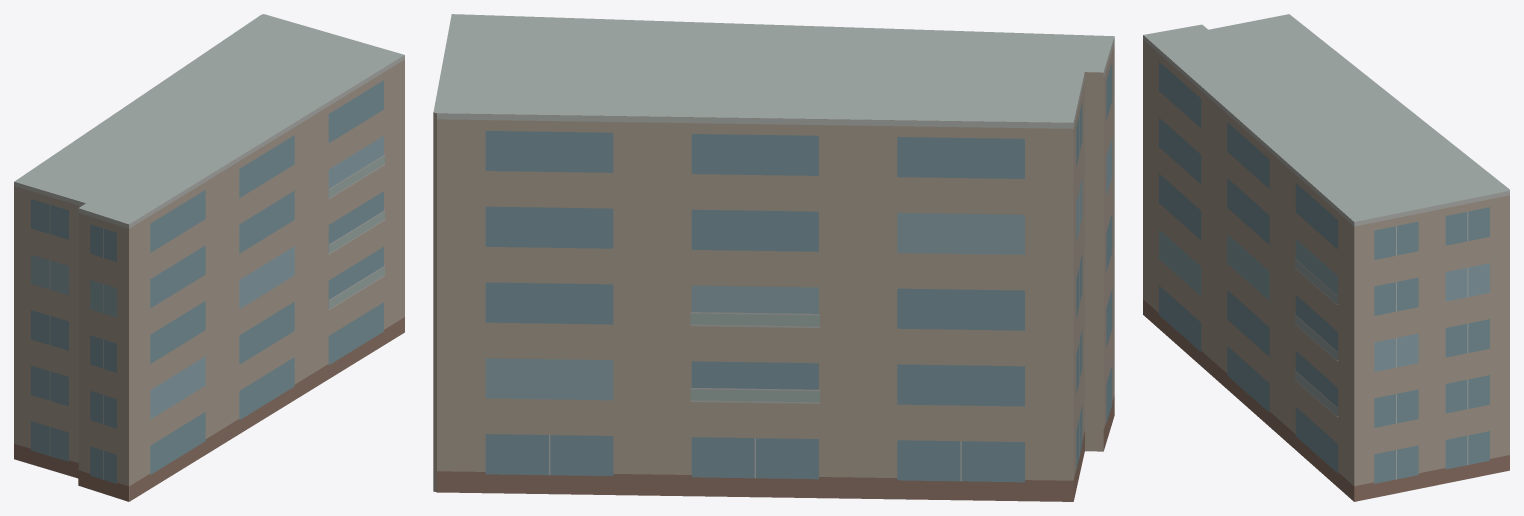
File: survey-upis-32991094.glb
3 renders of one model, left to right at view 1: azimuth 30°, elevation 25°; view 2: azimuth 150°, elevation 25°; view 3: azimuth 270°, elevation 25°, orthographic. The views are drawn at different scales.
Visible parts, largest first — view 1: survey-upis-32991094.tmp; view 2: survey-upis-32991094.tmp; view 3: survey-upis-32991094.tmp.
Part boxes in pixels (<box>): survey-upis-32991094.tmp: <box>14,14,404,501</box>; survey-upis-32991094.tmp: <box>433,14,1114,501</box>; survey-upis-32991094.tmp: <box>1143,14,1509,501</box>.
Size of the model in its own units: 24.34 by 15.25 by 18.13.
